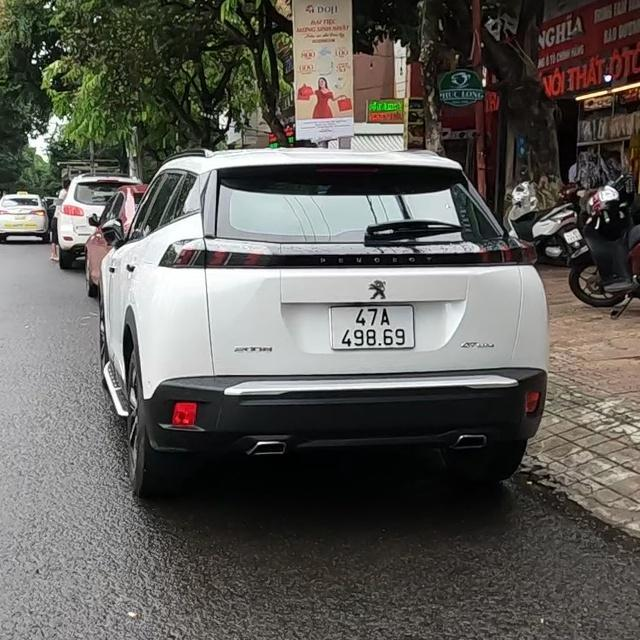car: (95, 141, 554, 507), (56, 172, 140, 269), (0, 186, 46, 249)
motorcycle: (565, 180, 640, 315), (500, 174, 585, 264)
plate: (324, 297, 422, 357)
